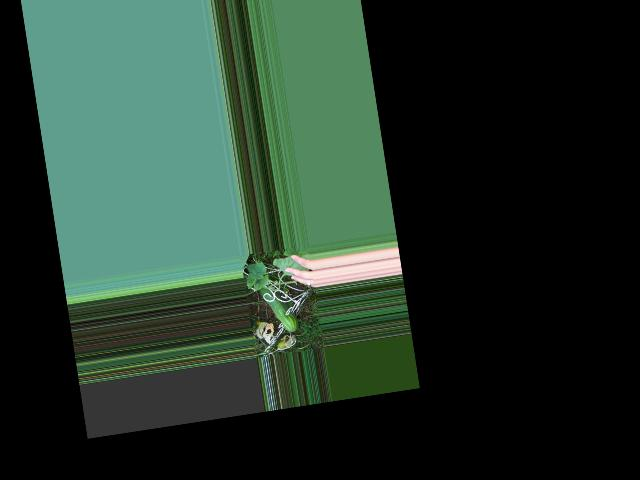cucumber: (259, 282, 299, 335)
